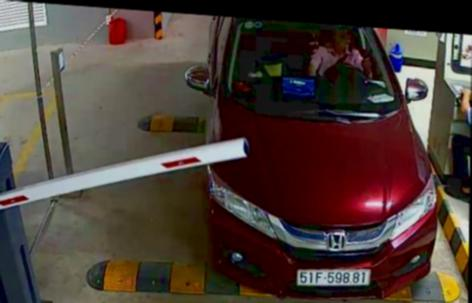License_Plate: (292, 257, 373, 294)
